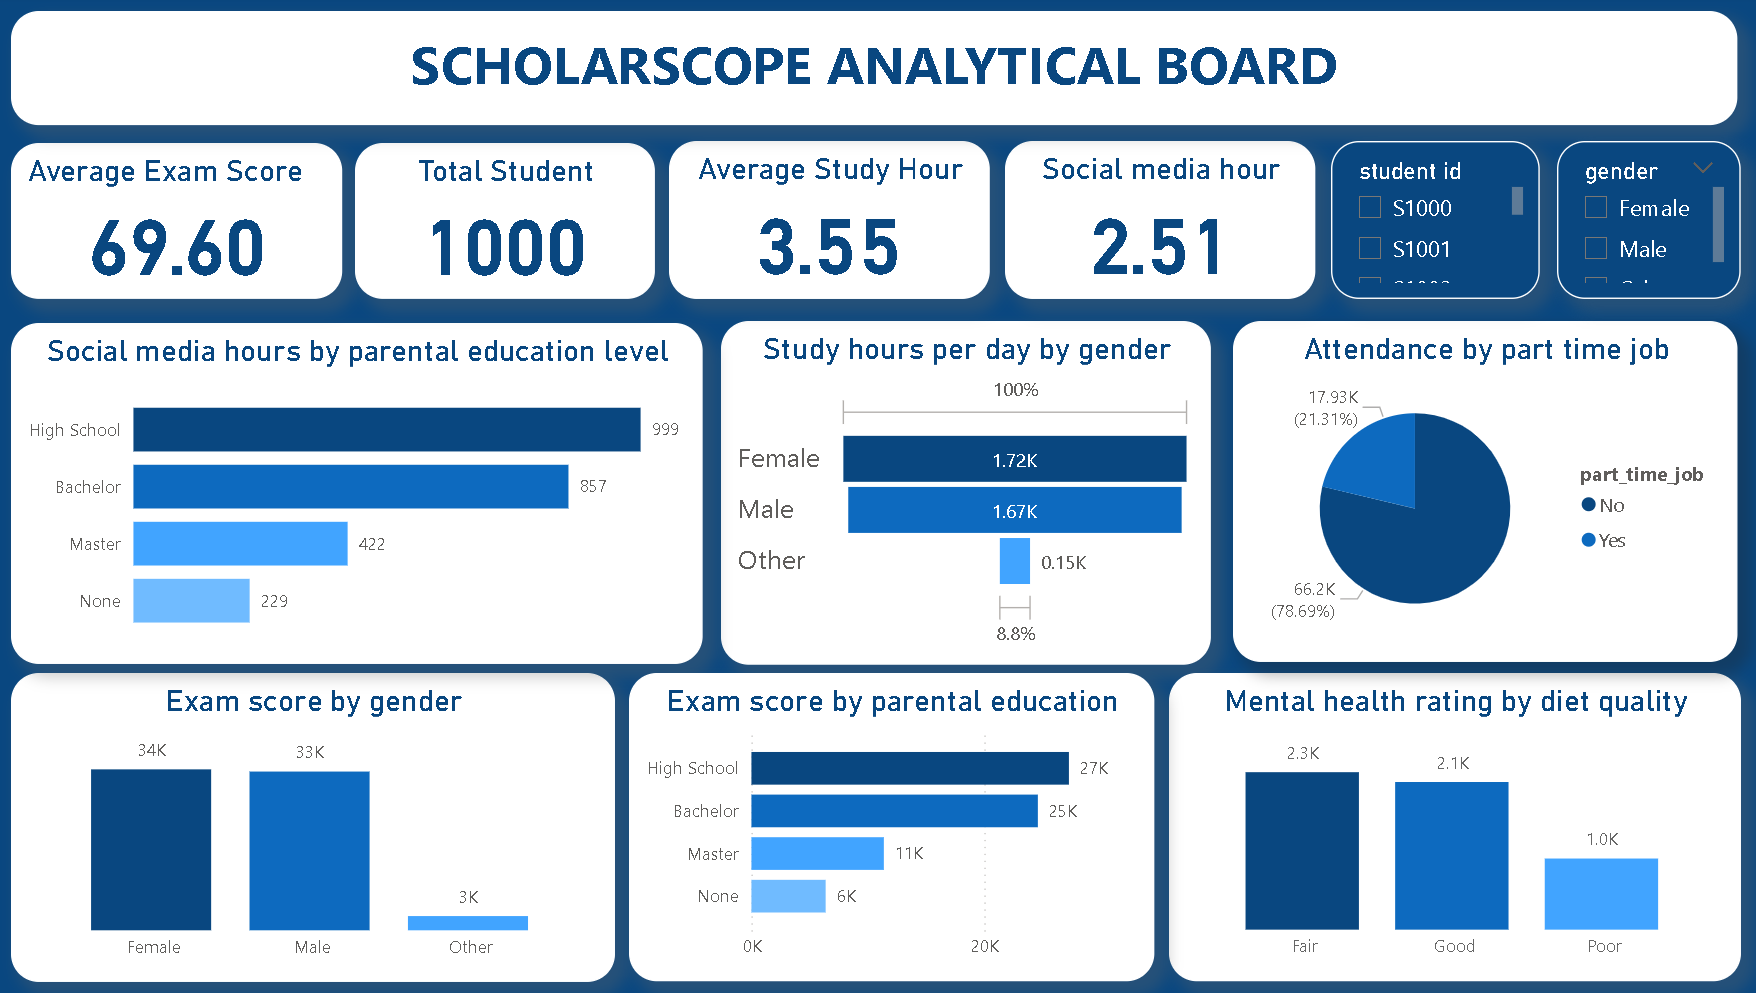

Layout of this report page (visuals, bound fields, positions):
{"tool":"powerbi","page":{"name":"Dashboard","canvas":[1280,720],"ordinal":0},"visuals":[{"type":"funnel","title":"Study hours per day by gender","fields":{"Y":["Sum(student_habits_performance.study_hours_per_day)"],"Category":["student_habits_performance.gender"]},"box":[533.8,235.1,351.8,247.2],"z":0},{"type":"clusteredColumnChart","title":"Exam score by gender","fields":{"Y":["Sum(student_habits_performance.exam_score)"],"Category":["student_habits_performance.gender"]},"box":[23.2,488.5,433.8,221.9],"z":1000},{"type":"barChart","title":"Social media hours by parental education level","fields":{"Category":["student_habits_performance.parental_education_level"],"Y":["Sum(student_habits_performance.social_media_hours)"]},"box":[23.2,236.8,496.8,245.1],"z":2000},{"type":"columnChart","title":"Mental health rating by diet quality","fields":{"Category":["student_habits_performance.diet_quality"],"Y":["Sum(student_habits_performance.mental_health_rating)"]},"box":[855.4,488.3,411,221.4],"z":3000},{"type":"clusteredBarChart","title":"Exam score by parental education ","fields":{"Category":["student_habits_performance.parental_education_level"],"Y":["Sum(student_habits_performance.exam_score)"]},"box":[467.1,488.3,377.6,221.4],"z":4000},{"type":"pieChart","title":"Attendance by part time job","fields":{"Category":["student_habits_performance.part_time_job"],"Y":["Sum(student_habits_performance.attendance_percentage)"]},"box":[900.8,235.1,362.6,245.1],"z":5000},{"type":"card","title":"Average Exam Score","fields":{"Values":["student_habits_performance.Average exam score"]},"box":[22.7,107.7,238.1,112.2],"z":6000},{"type":"card","title":"Total Student","fields":{"Values":["student_habits_performance.Total Student"]},"box":[270,107.7,215.4,112.2],"z":7000},{"type":"card","title":"Average Study Hour","fields":{"Values":["Avg(student_habits_performance.study_hours_per_day)"]},"box":[495.9,106.2,230.5,113.7],"z":8000},{"type":"card","title":"Social media hour","fields":{"Values":["Avg(student_habits_performance.social_media_hours)"]},"box":[737.1,106.2,222.9,113.7],"z":9000},{"type":"textbox","box":[22.7,13.6,1240.6,81.9],"z":10000},{"type":"slicer","fields":{"Values":["student_habits_performance.student_id"]},"box":[972.1,106.2,150.1,113.7],"z":11000},{"type":"slicer","fields":{"Values":["student_habits_performance.gender"]},"box":[1134.4,106.2,131.9,113.7],"z":12000}]}

Visuals, with their boxes in screenshot pixels (x1, y1, x2, y2), scaled from the page's 1280x720 canvas onto the 1756x993 screenshot:
"Study hours per day by gender" funnel: 732, 324, 1215, 665
"Exam score by gender" clusteredColumnChart: 32, 674, 627, 980
"Social media hours by parental education level" barChart: 32, 327, 713, 665
"Mental health rating by diet quality" columnChart: 1174, 673, 1737, 979
"Exam score by parental education " clusteredBarChart: 641, 673, 1159, 979
"Attendance by part time job" pieChart: 1236, 324, 1733, 662
"Average Exam Score" card: 31, 149, 358, 303
"Total Student" card: 370, 149, 666, 303
"Average Study Hour" card: 680, 146, 997, 303
"Social media hour" card: 1011, 146, 1317, 303
textbox: 31, 19, 1733, 132
slicer - student_habits_performance.student_id: 1334, 146, 1540, 303
slicer - student_habits_performance.gender: 1556, 146, 1737, 303
